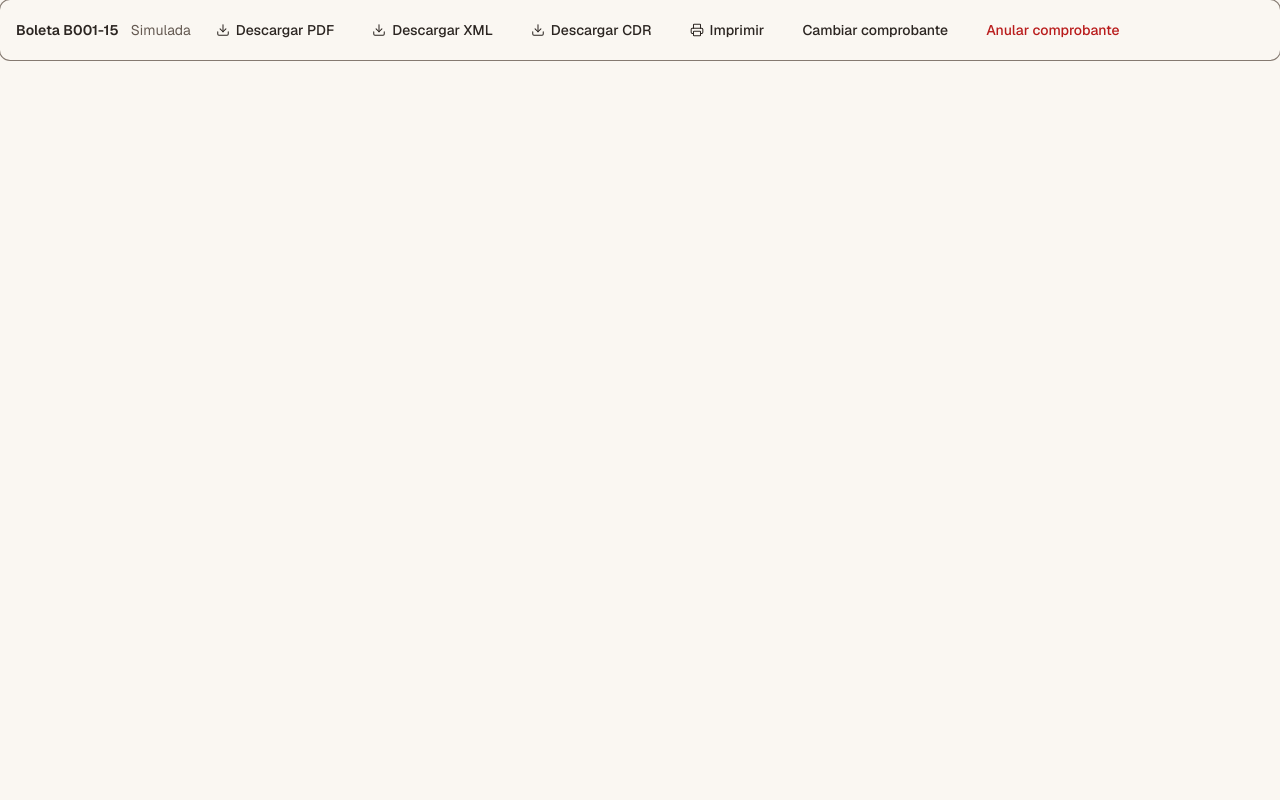
Test: Anular un comprobante según su estado › simulado: explica que nunca fue válido ante SUNAT y se anula sin nota
The image size is (1280, 800).
Click the button "Anular comprobante": (1053, 30) 973,12 -> 1133,48
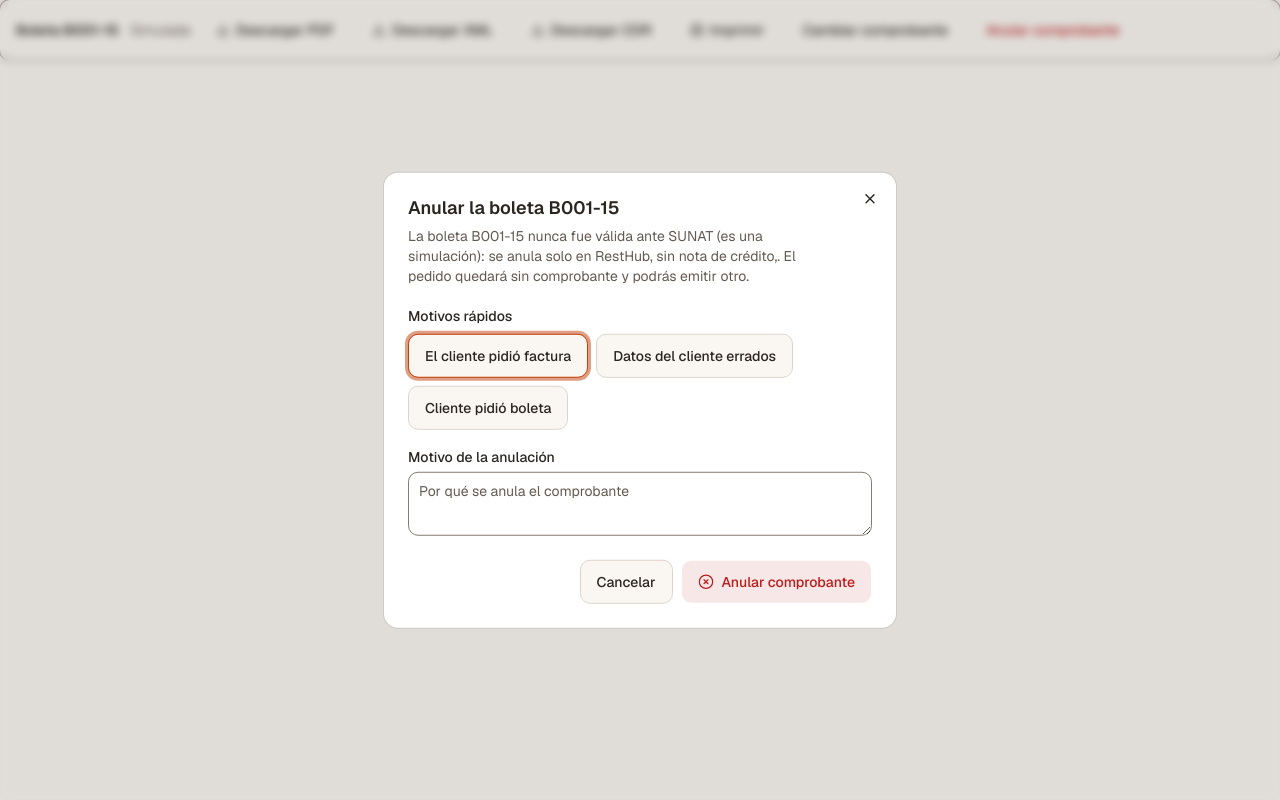
Check: the text "nunca fue válida ante SUNAT (es una simulación): se anula solo en RestHub, sin nota de crédito" is shown, box 408,226 -> 796,284
Click the button "Datos del cliente errados": (695, 355) 596,333 -> 793,377
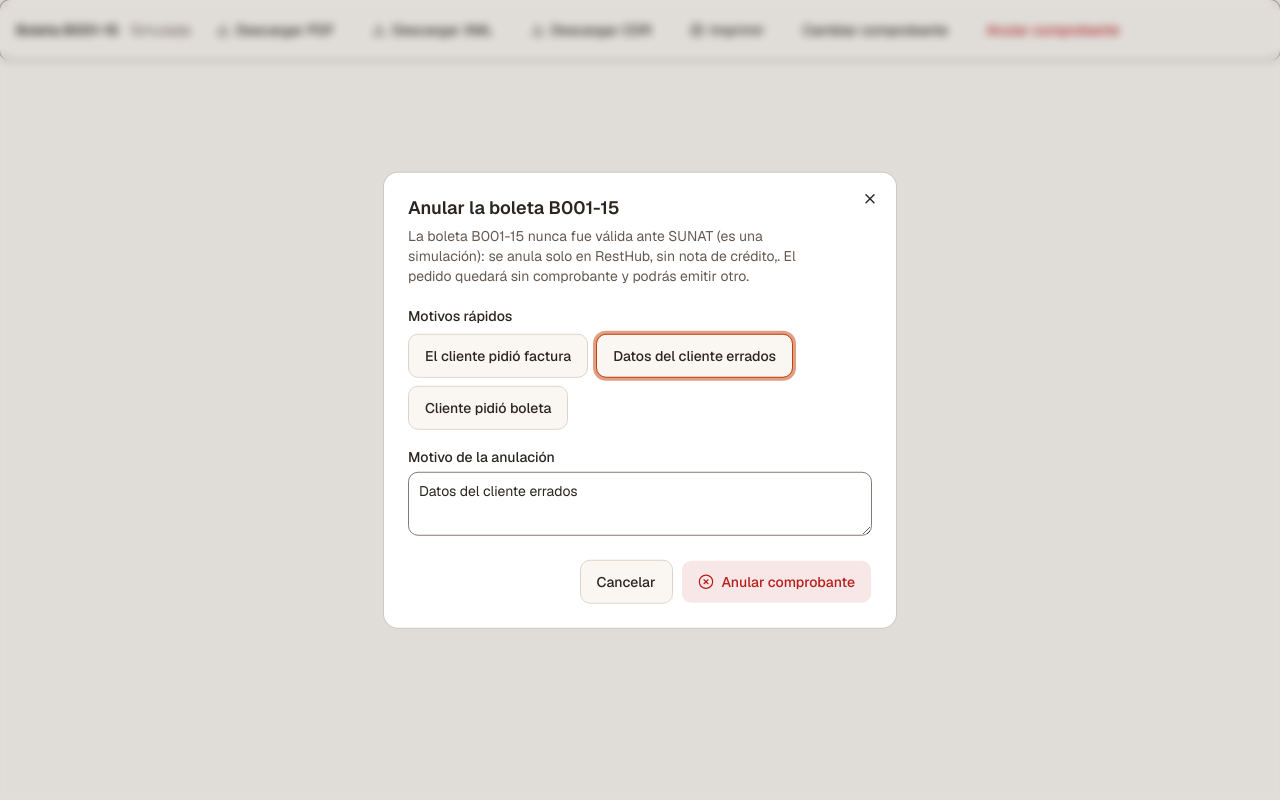
Click the button "Anular comprobante": (776, 581) 680,559 -> 872,603
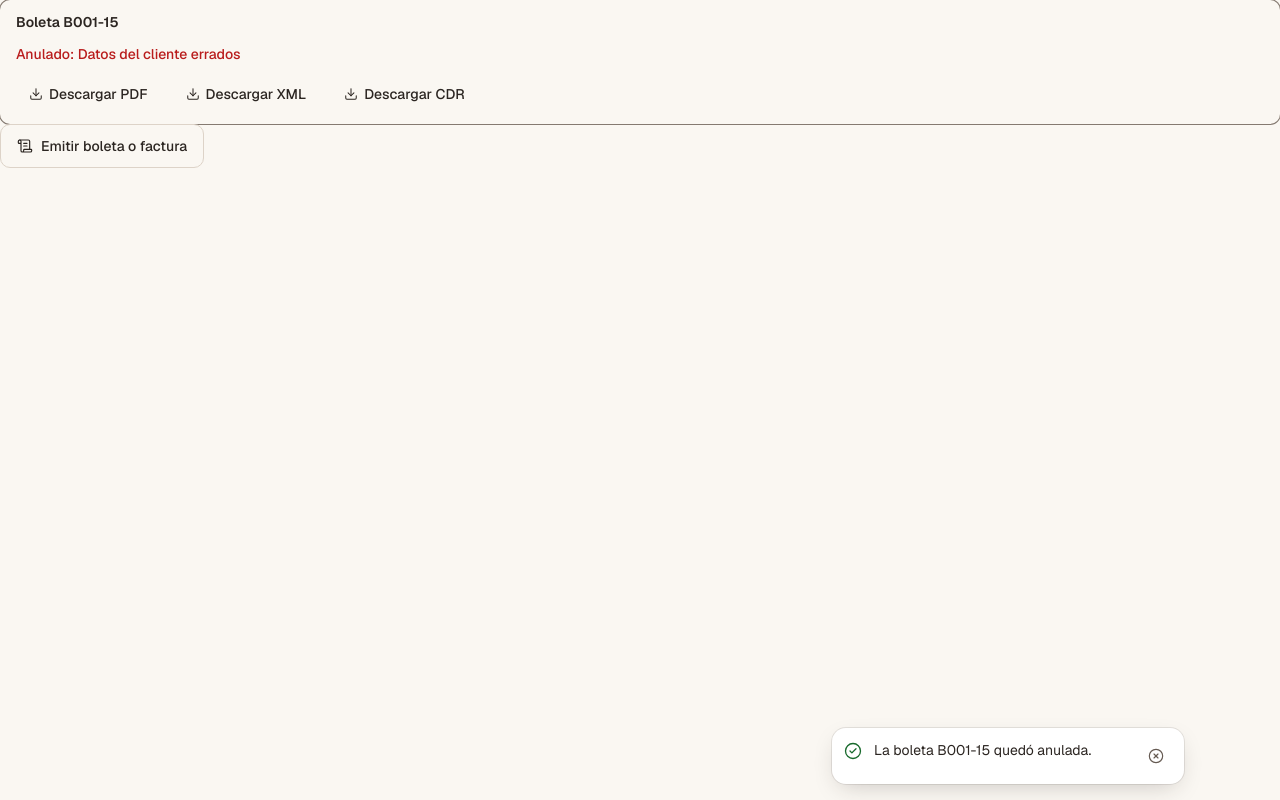
Check: the text "Anulado: Datos del cliente errados" is shown, box 16,45 -> 240,63
Check: the text "Nota de crédito" is gone
